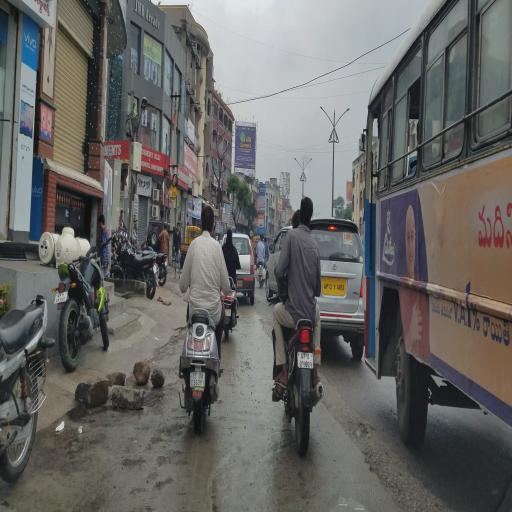street_light_0: (312, 96, 335, 140), (332, 96, 354, 140), (288, 155, 302, 181), (302, 155, 316, 177)
